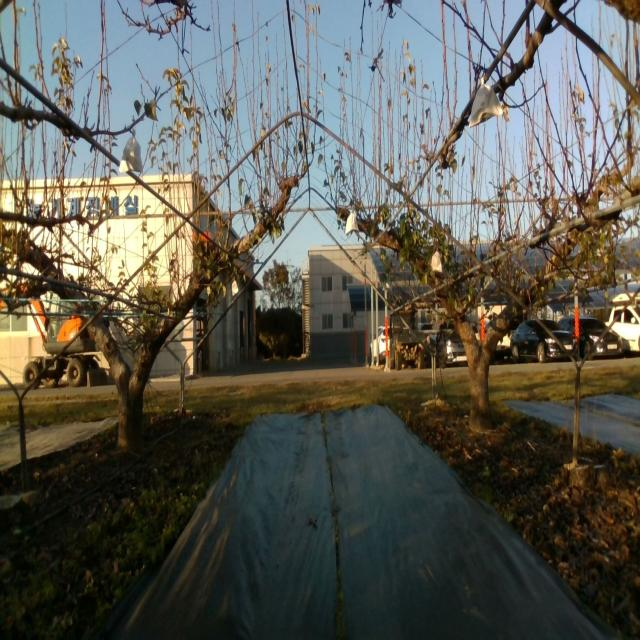pearbags: (469, 76, 504, 130), (119, 128, 144, 175), (345, 212, 360, 235), (431, 248, 443, 273)
